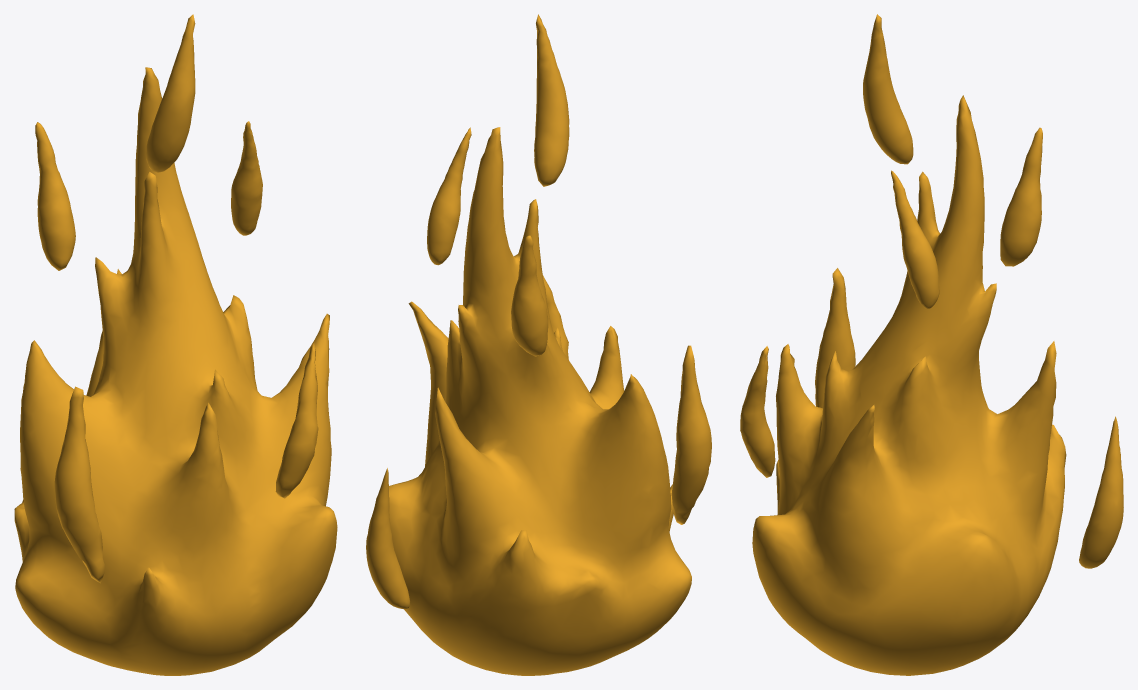
File: yellowfire.fbx
3 views of the same model, side by side, from view 1: azimuth 30°, elevation 25°; view 2: azimuth 150°, elevation 25°; view 3: azimuth 270°, elevation 25° (orthographic). The views are drawn at different scales.
Parts seen in each view (by area): view 1: fire big_8, Sphere.004_6, Sphere.003_5, Sphere.001_3, Sphere_2, Sphere.002_4; view 2: fire big_8, Sphere.004_6, Sphere.003_5, Sphere.005_7, Sphere.001_3, Sphere.002_4, Sphere_2; view 3: fire big_8, Sphere.003_5, Sphere.001_3, Sphere.005_7, Sphere.002_4, Sphere.004_6, Sphere_2.
Boxes of the visible parts, x1=… form: fire big_8: x1=14, y1=67, x2=337, y2=675; Sphere.004_6: x1=54, y1=386, x2=104, y2=583; Sphere.003_5: x1=146, y1=14, x2=195, y2=172; Sphere.001_3: x1=35, y1=122, x2=75, y2=270; Sphere_2: x1=275, y1=343, x2=318, y2=498; Sphere.002_4: x1=231, y1=121, x2=262, y2=235; fire big_8: x1=389, y1=127, x2=691, y2=675; Sphere.004_6: x1=671, y1=345, x2=711, y2=524; Sphere.003_5: x1=534, y1=14, x2=569, y2=186; Sphere.005_7: x1=366, y1=468, x2=409, y2=609; Sphere.001_3: x1=511, y1=235, x2=548, y2=356; Sphere.002_4: x1=427, y1=127, x2=471, y2=265; Sphere_2: x1=542, y1=275, x2=568, y2=359; fire big_8: x1=752, y1=95, x2=1066, y2=675; Sphere.003_5: x1=863, y1=14, x2=913, y2=164; Sphere.001_3: x1=1000, y1=127, x2=1042, y2=266; Sphere.005_7: x1=1079, y1=416, x2=1123, y2=568; Sphere.002_4: x1=891, y1=170, x2=939, y2=309; Sphere.004_6: x1=815, y1=268, x2=855, y2=408; Sphere_2: x1=740, y1=346, x2=775, y2=477.
Bounding box in the file's own units: 354 × 737 × 395.
